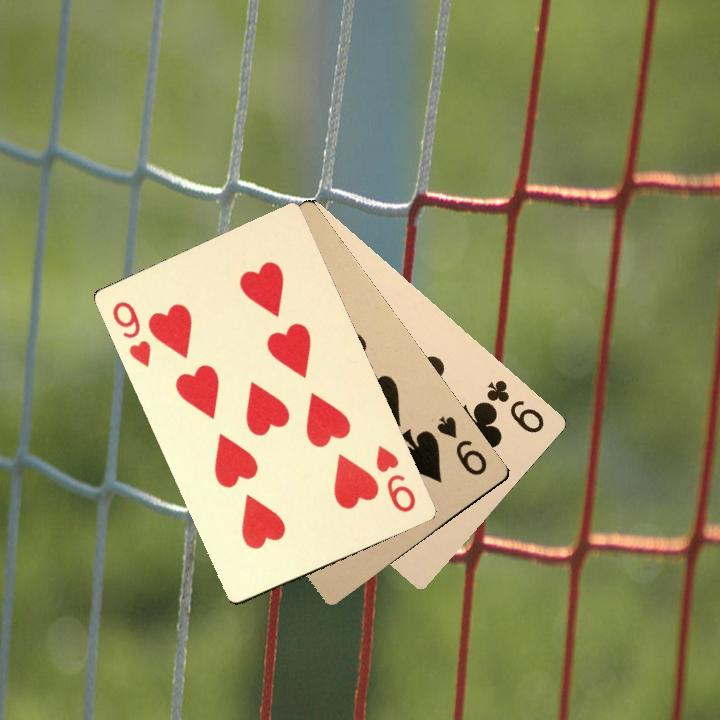9c: (481, 375, 547, 436)
9h: (371, 441, 419, 515), (108, 297, 154, 370)
9s: (432, 412, 490, 479)
